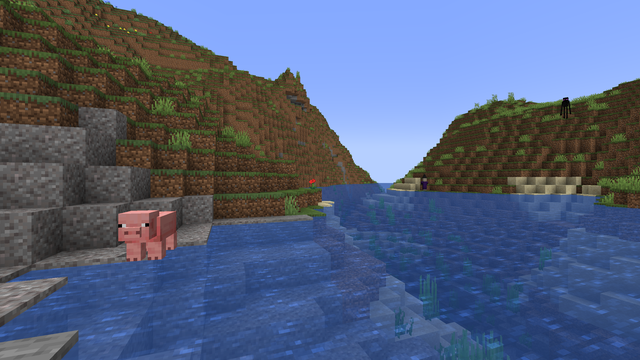cochons: (120, 209, 179, 261)
endermens: (561, 96, 569, 118)
sorcieres: (421, 177, 426, 189)
